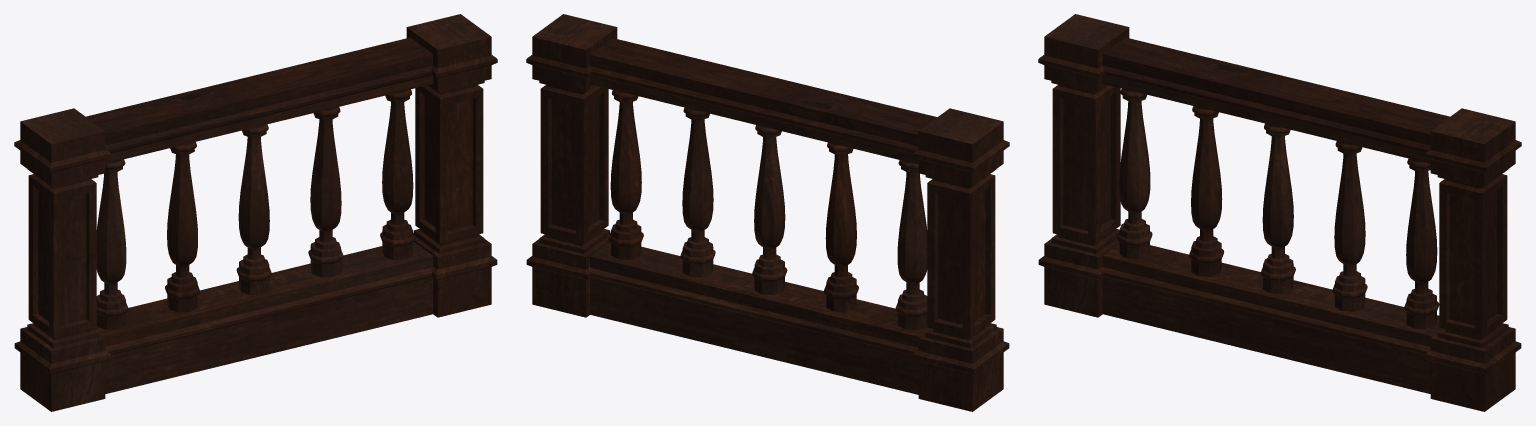
The model's file is SK7 RAILING SHORT.fbx.
3 renders of one model, left to right at view 1: azimuth 30°, elevation 25°; view 2: azimuth 150°, elevation 25°; view 3: azimuth 330°, elevation 25°, orthographic.
Visible parts, largest first — view 1: SK7 RAILING SHORT; view 2: SK7 RAILING SHORT; view 3: SK7 RAILING SHORT.
Boxes of the visible parts, x1,y1,x2,y2 form: SK7 RAILING SHORT: (14,14,497,411); SK7 RAILING SHORT: (526,14,1009,411); SK7 RAILING SHORT: (1038,14,1521,411).
Bounding box in the file's own units: 199 × 114 × 27.43.
